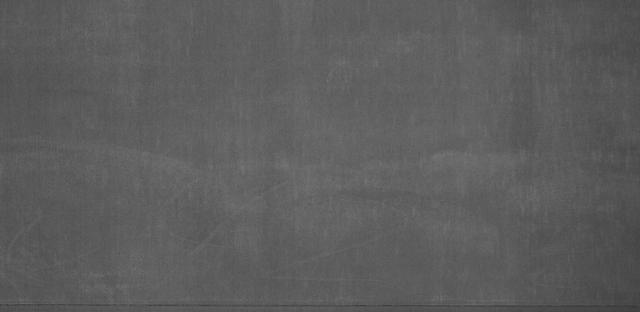welding_line: (8, 299, 640, 310)
